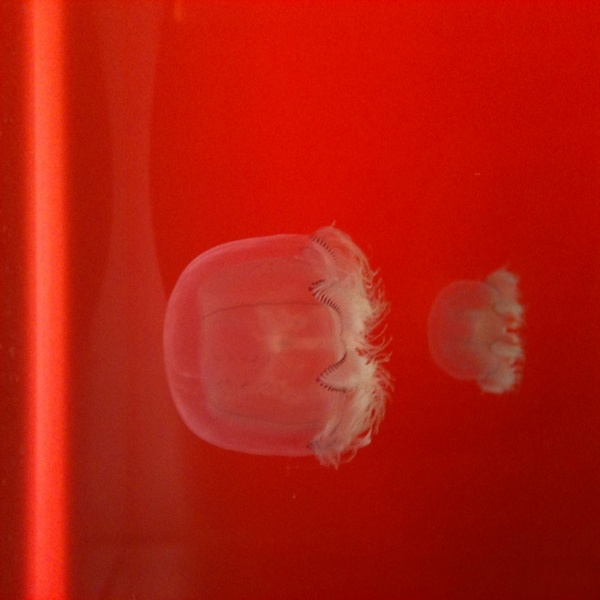Jellyfish: (161, 217, 393, 469), (425, 270, 526, 398)
